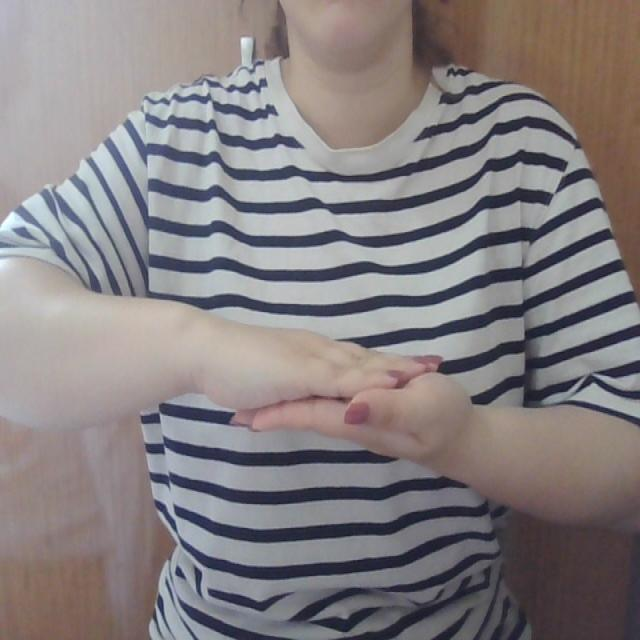Arkadas: (175, 286, 541, 481)
